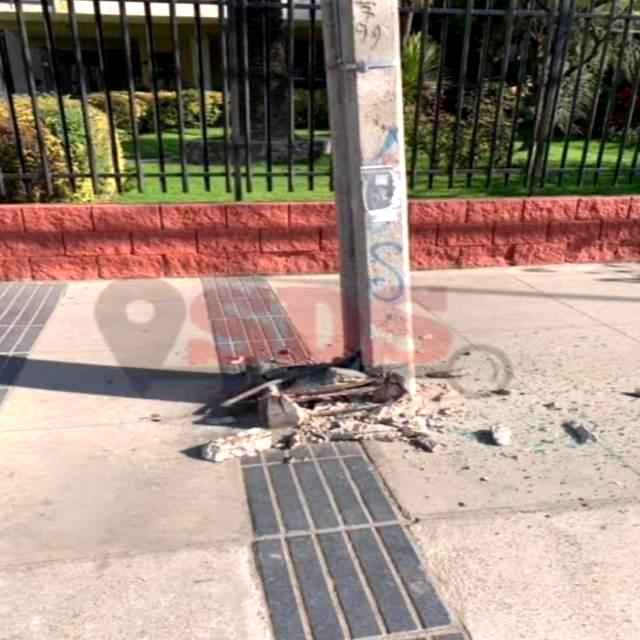Broken Pole: (203, 1, 441, 463)
